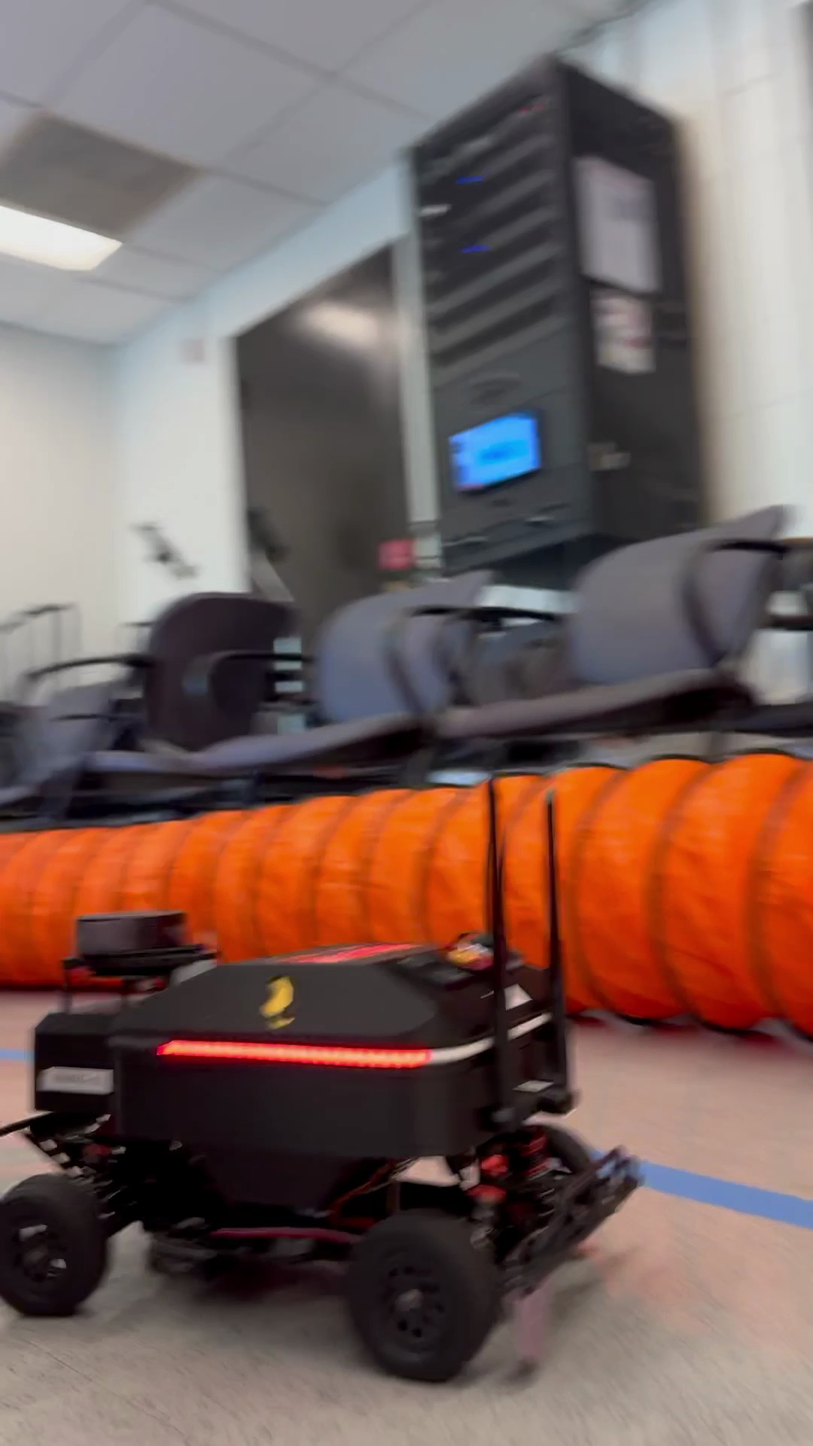racecar: (0, 796, 642, 1388)
